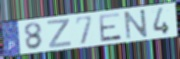4: (152, 6, 172, 36)
7: (74, 14, 94, 46)
8: (23, 21, 44, 51)
E: (97, 11, 123, 43)
N: (123, 8, 150, 41)
Z: (46, 17, 73, 49)
